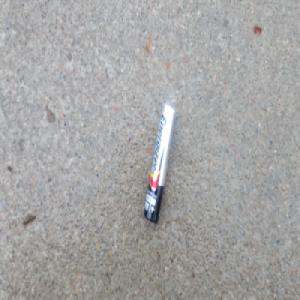Battery: (142, 102, 176, 225)
